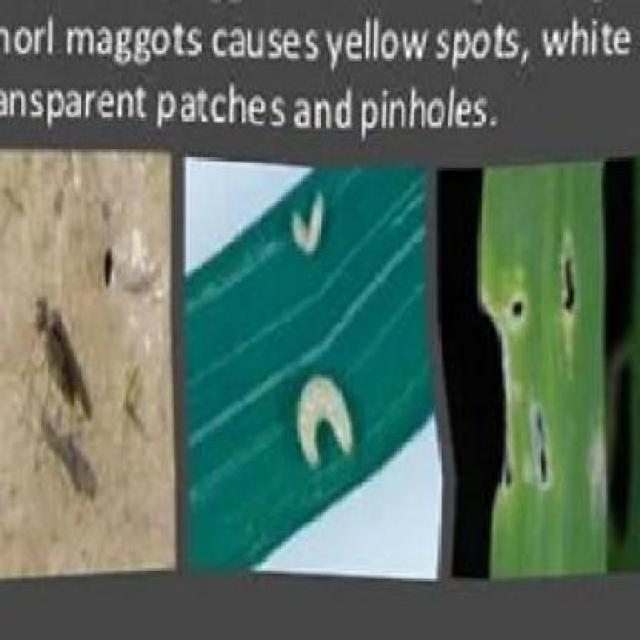whorl-maggot: (288, 370, 363, 475), (282, 188, 336, 264)
